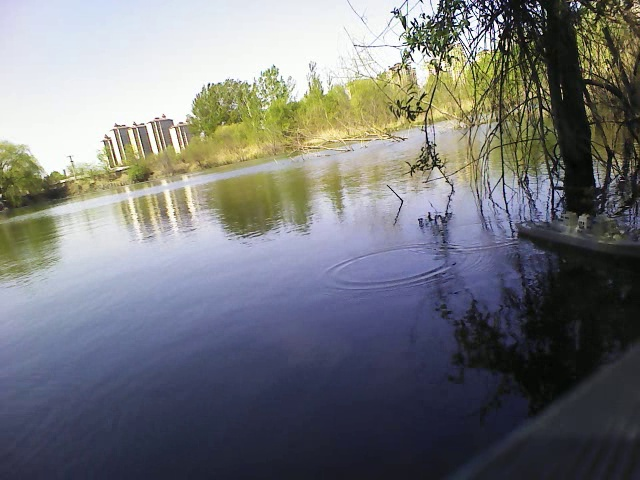warship: (517, 203, 636, 261)
